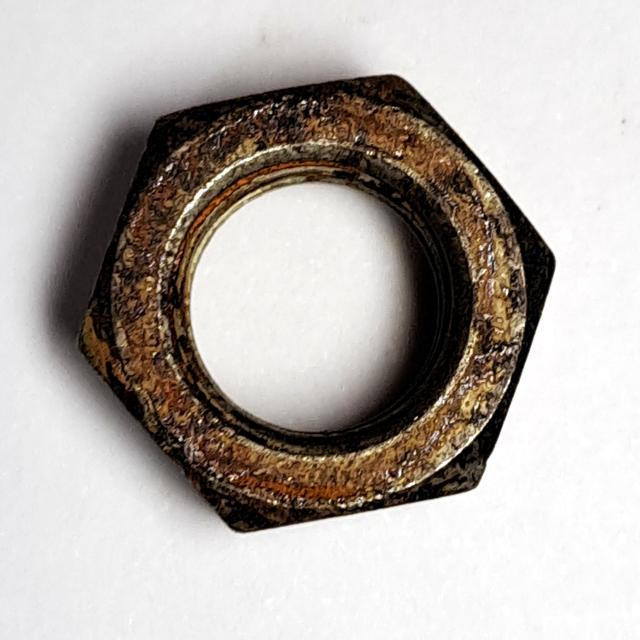Rust: (66, 66, 566, 551)
